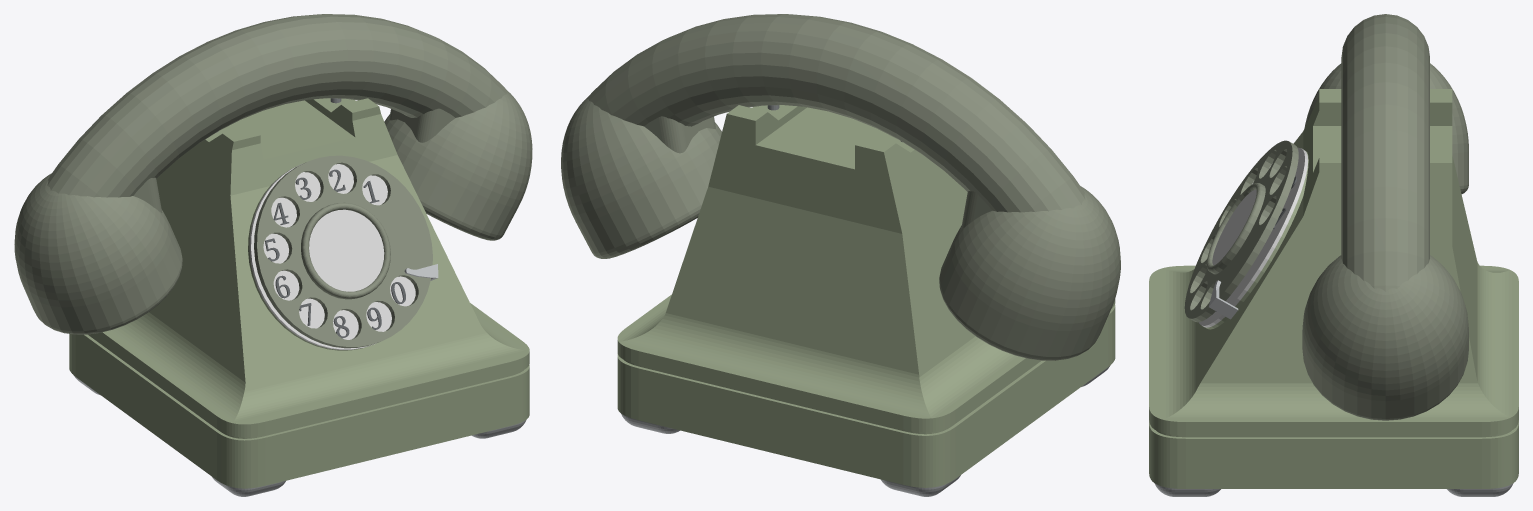
Rendered from contact.glb.
The picture shows the model from 3 angles, left to right: view 1: azimuth 30°, elevation 25°; view 2: azimuth 150°, elevation 25°; view 3: azimuth 270°, elevation 25°; orthographic projection. The views are drawn at different scales.
Visible parts, largest first — view 1: Mesh_Mesh_head_geo.001_lambert2SG.001; view 2: Mesh_Mesh_head_geo.001_lambert2SG.001; view 3: Mesh_Mesh_head_geo.001_lambert2SG.001.
Part boxes in pixels (x1,y1,x2,y2): Mesh_Mesh_head_geo.001_lambert2SG.001: (14,14,532,496); Mesh_Mesh_head_geo.001_lambert2SG.001: (561,14,1120,496); Mesh_Mesh_head_geo.001_lambert2SG.001: (1149,14,1518,496).
Size of the model in its own units: 163 by 114 by 100.
